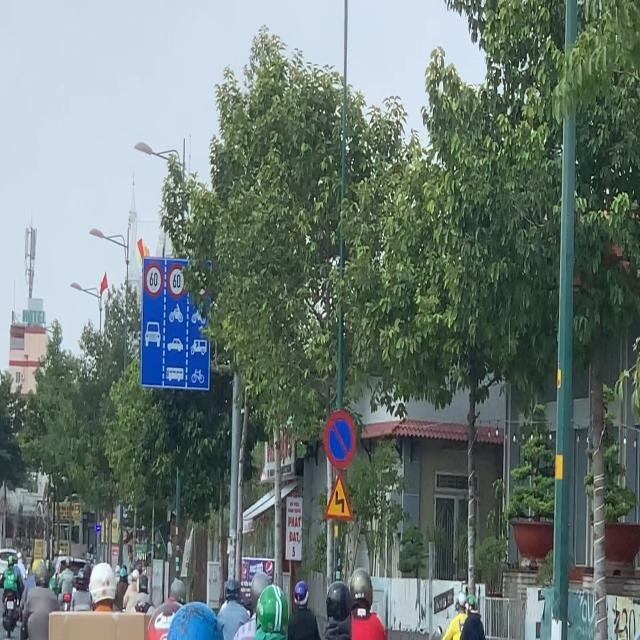bien_cam: (324, 410, 356, 469), (324, 472, 354, 521), (167, 264, 187, 299), (144, 263, 164, 297)
